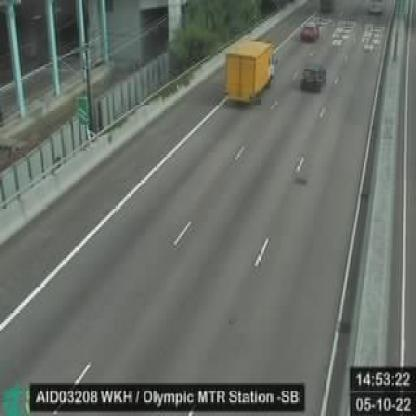Car: (298, 63, 326, 90), (298, 21, 318, 43)
Truck: (224, 40, 274, 102)
